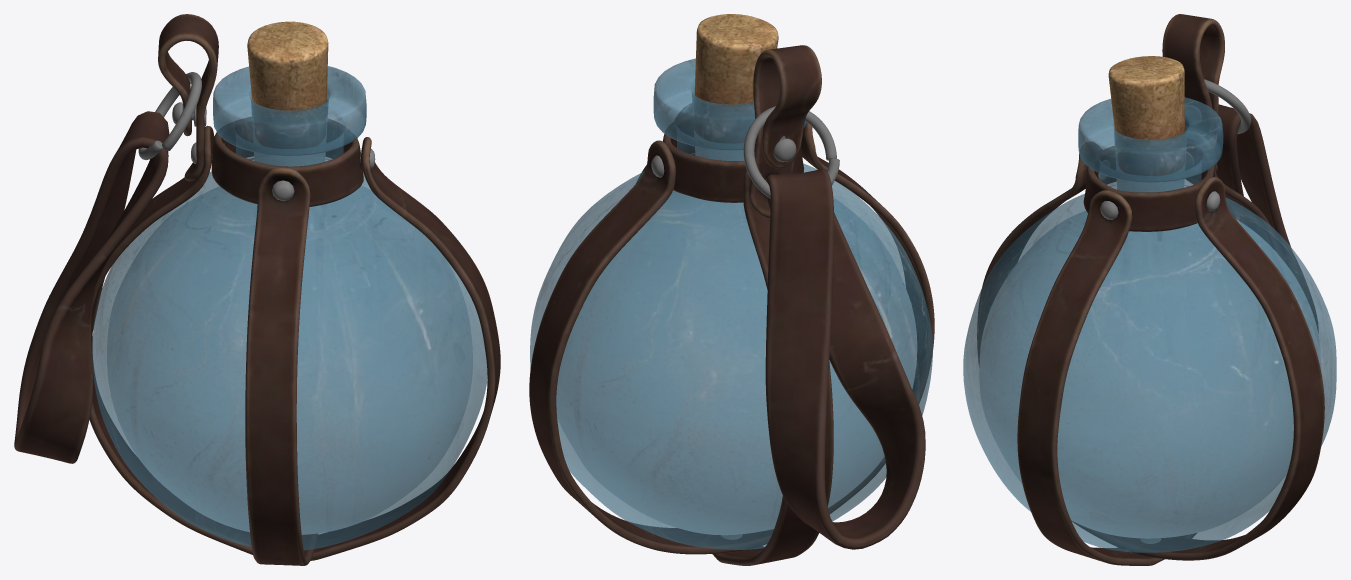
Rendered from Souls_Bottle.glb.
The picture shows the model from 3 angles, left to right: view 1: azimuth 30°, elevation 25°; view 2: azimuth 150°, elevation 25°; view 3: azimuth 270°, elevation 25°; orthographic projection. The views are drawn at different scales.
Parts seen in each view (by area): view 1: Souls_Bottle; view 2: Souls_Bottle; view 3: Souls_Bottle.
Part boxes in pixels (x1,y1,x2,y2): Souls_Bottle: (14,14,500,565); Souls_Bottle: (529,14,934,565); Souls_Bottle: (963,14,1336,565).
Size of the model in its own units: 0.3105 by 0.4 by 0.268.
1 material, 1 textured.
